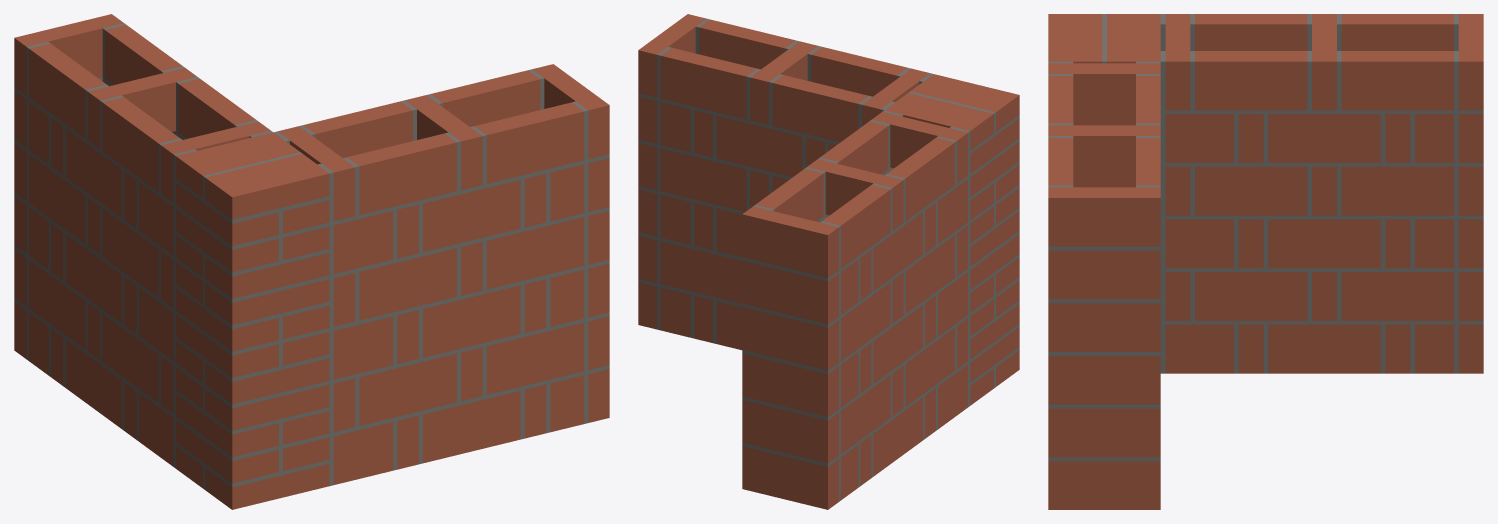
Rendered from hollow-brick-wall.glb.
3 views of the same model, side by side, from view 1: azimuth 30°, elevation 25°; view 2: azimuth 150°, elevation 25°; view 3: azimuth 270°, elevation 25° (orthographic). The views are drawn at different scales.
Visible parts, largest first — view 1: 侧砌普通砖, 转角平砌砖, 横向拉结砖, 连续砂浆（无交互）; view 2: 侧砌普通砖, 横向拉结砖, 连续砂浆（无交互）, 转角平砌砖; view 3: 侧砌普通砖, 横向拉结砖, 连续砂浆（无交互）, 转角平砌砖.
Part boxes in pixels (x1,y1,x2,y2): 侧砌普通砖: (29,25,584,484); 转角平砌砖: (176,132,329,509); 横向拉结砖: (14,14,609,469); 连续砂浆（无交互）: (14,23,609,489); 侧砌普通砖: (660,19,967,500); 横向拉结砖: (638,14,967,509); 连续砂浆（无交互）: (638,18,1019,501); 转角平砌砖: (885,74,1019,405); 侧砌普通砖: (1048,14,1453,373); 横向拉结砖: (1048,14,1483,509); 连续砂浆（无交互）: (1048,14,1483,461); 转角平砌砖: (1048,14,1160,125).
Size of the model in its own units: 0.929 by 0.735 by 0.929.
